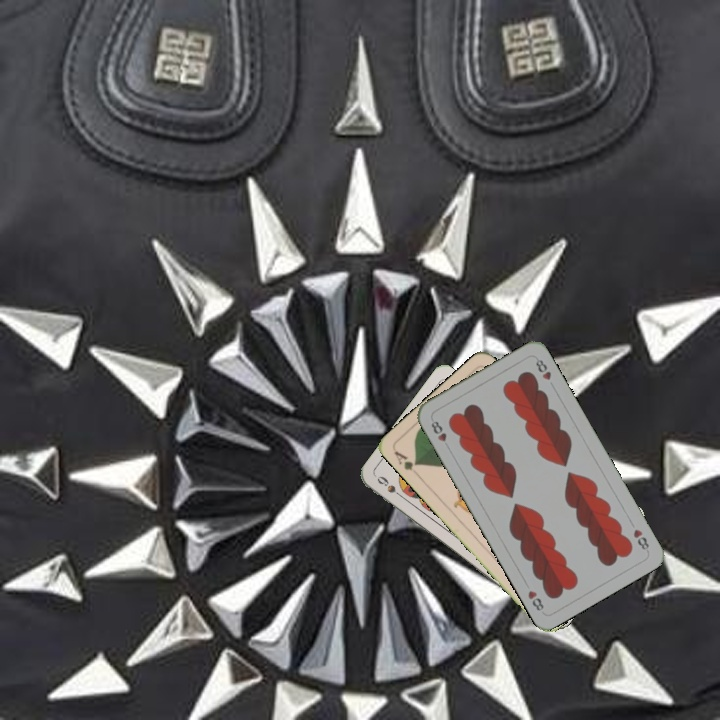GA: (390, 446, 421, 473)
H8: (427, 417, 453, 452), (629, 525, 652, 555)
S9: (373, 472, 407, 502)
